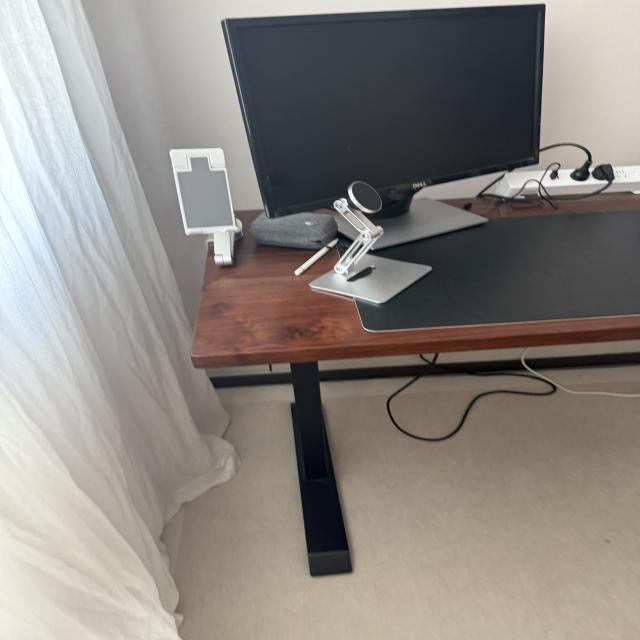phone holder: (300, 175, 439, 314)
